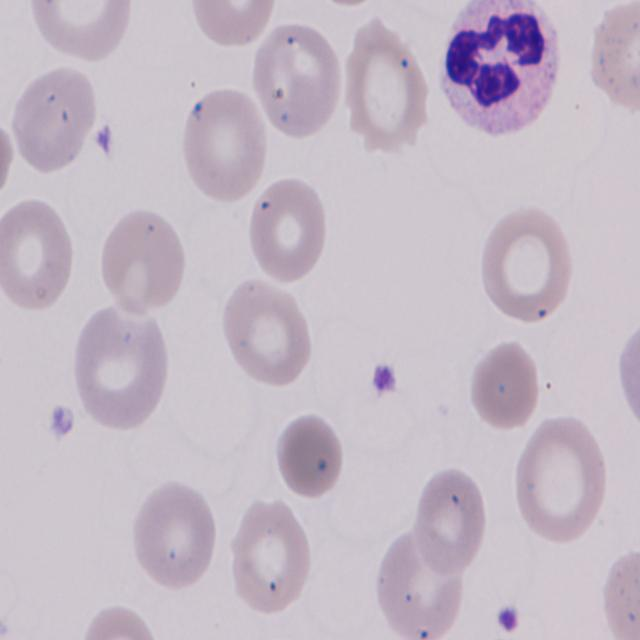RBC: (476, 202, 574, 328), (74, 306, 172, 432), (514, 418, 608, 548), (339, 23, 432, 154), (224, 496, 314, 616), (222, 274, 314, 389), (13, 59, 99, 182), (373, 525, 466, 636), (180, 88, 268, 204), (128, 478, 218, 590), (96, 207, 188, 316), (245, 174, 331, 288), (0, 199, 77, 317), (414, 466, 491, 575), (28, 0, 136, 63), (590, 0, 640, 115), (184, 0, 280, 51), (600, 540, 640, 640), (70, 603, 165, 640)
Spherocyte: (464, 336, 542, 436), (272, 410, 348, 503)
